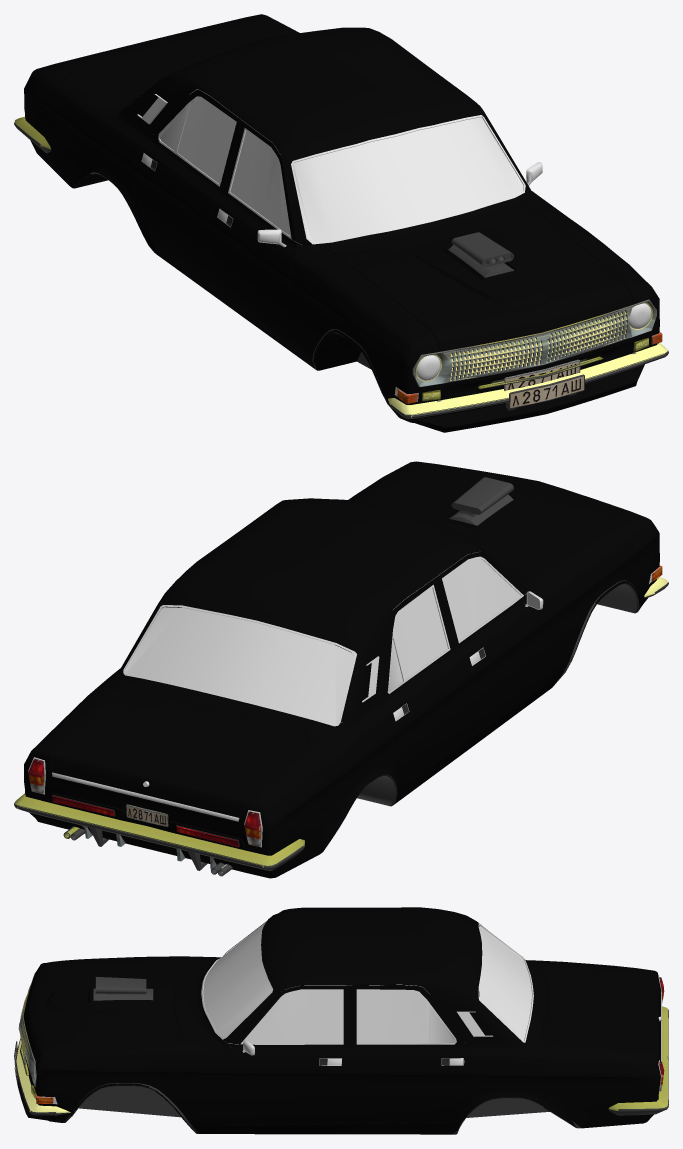
Rendered from Stalin.fbx.
3 renders of one model, top to bottom at view 1: azimuth 30°, elevation 25°; view 2: azimuth 150°, elevation 25°; view 3: azimuth 270°, elevation 25°, orthographic. The views are drawn at different scales.
Parts seen in each view (by area): view 1: kit01_body, window, kit01_objects, standart_objects, kit02_body, static_objects, kit03_body, kit02_objects, kit03_objects, lights_glass; view 2: kit01_body, window, kit03_body, kit02_body, body, static_objects, kit03_objects, kit02_objects, standart_objects, rear_lights, kit01_objects; view 3: kit01_body, kit03_body, window, kit03_objects, static_objects, kit02_body, body, standart_objects, kit02_objects, kit01_objects.
Boxes of the visible parts, x1,y1,x2,y2 form: kit01_body: (24, 14, 659, 422); window: (160, 98, 523, 242); kit01_objects: (75, 173, 656, 401); standart_objects: (14, 117, 668, 417); kit02_body: (24, 75, 644, 432); static_objects: (137, 94, 658, 401); kit03_body: (24, 92, 605, 422); kit02_objects: (14, 122, 668, 418); kit03_objects: (15, 126, 668, 418); lights_glass: (416, 303, 651, 380); kit01_body: (31, 461, 659, 854); window: (125, 558, 520, 724); kit03_body: (24, 536, 656, 878); kit02_body: (24, 495, 657, 854); body: (32, 539, 591, 870); static_objects: (28, 556, 659, 847); kit03_objects: (15, 489, 668, 875); kit02_objects: (14, 477, 668, 876); standart_objects: (14, 577, 668, 867); rear_lights: (28, 759, 260, 846); kit01_objects: (67, 804, 238, 873); kit01_body: (23, 907, 656, 1133); kit03_body: (28, 984, 660, 1134); window: (203, 922, 531, 1043); kit03_objects: (14, 991, 667, 1134); static_objects: (38, 922, 661, 1104); kit02_body: (17, 925, 661, 1133); body: (101, 916, 657, 1125); standart_objects: (15, 989, 668, 1113); kit02_objects: (15, 976, 668, 1113); kit01_objects: (18, 973, 657, 1100).
Size of the model in its own units: 1.92 by 1.22 by 4.78.
8 materials, 5 textured.
